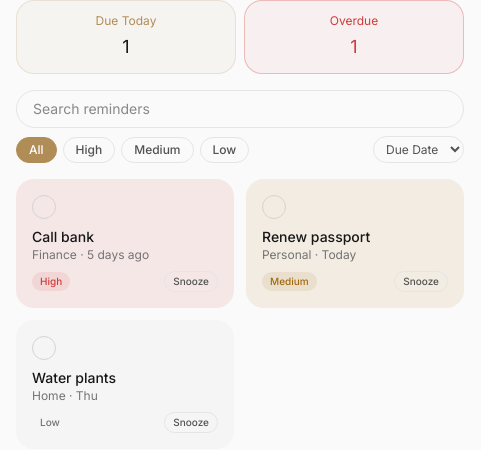
Test: RemindersListView › shows an empty state when no reminders match the filters
In the field with test id "reminders-search-input": (240, 109) [16,90,464,128], type "nonexistent"
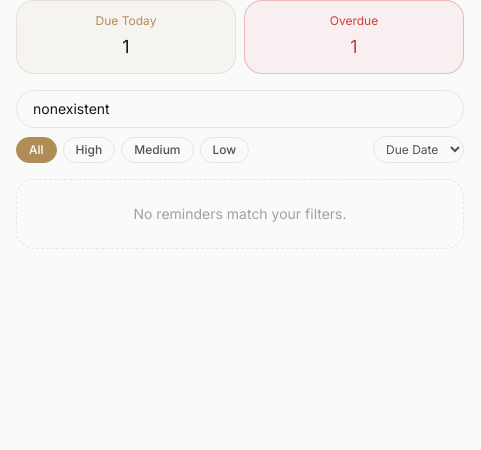
Expected: the text with test id "empty-state" reads "No reminders match your filters.", [134,205,347,222]
